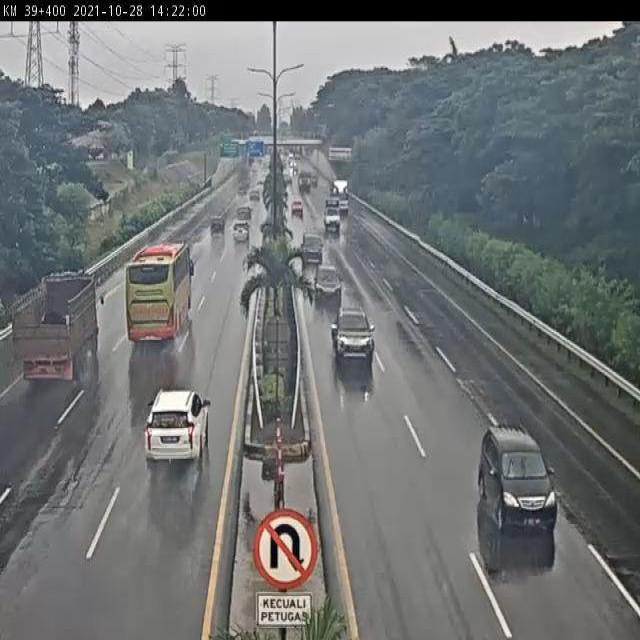big bus: (127, 242, 195, 346)
car: (482, 426, 559, 534), (146, 391, 212, 466), (331, 307, 376, 368), (313, 262, 344, 306), (301, 231, 325, 264)
truck-l-: (11, 270, 98, 382)
